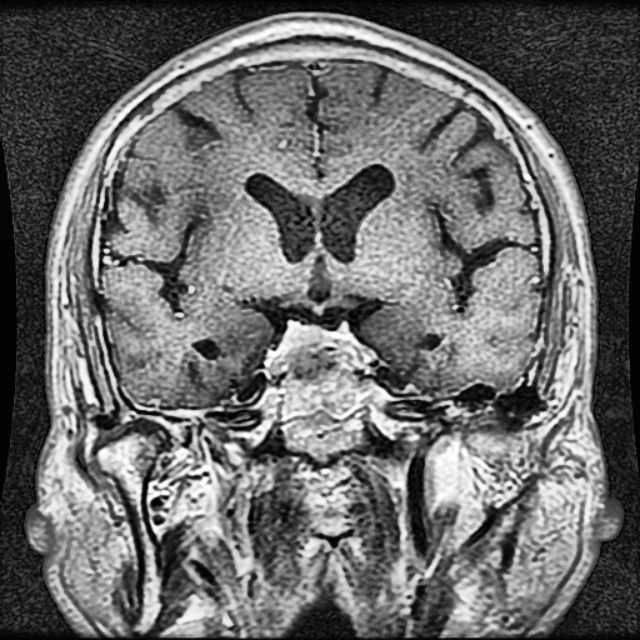Pituitary: (263, 320, 374, 375)
